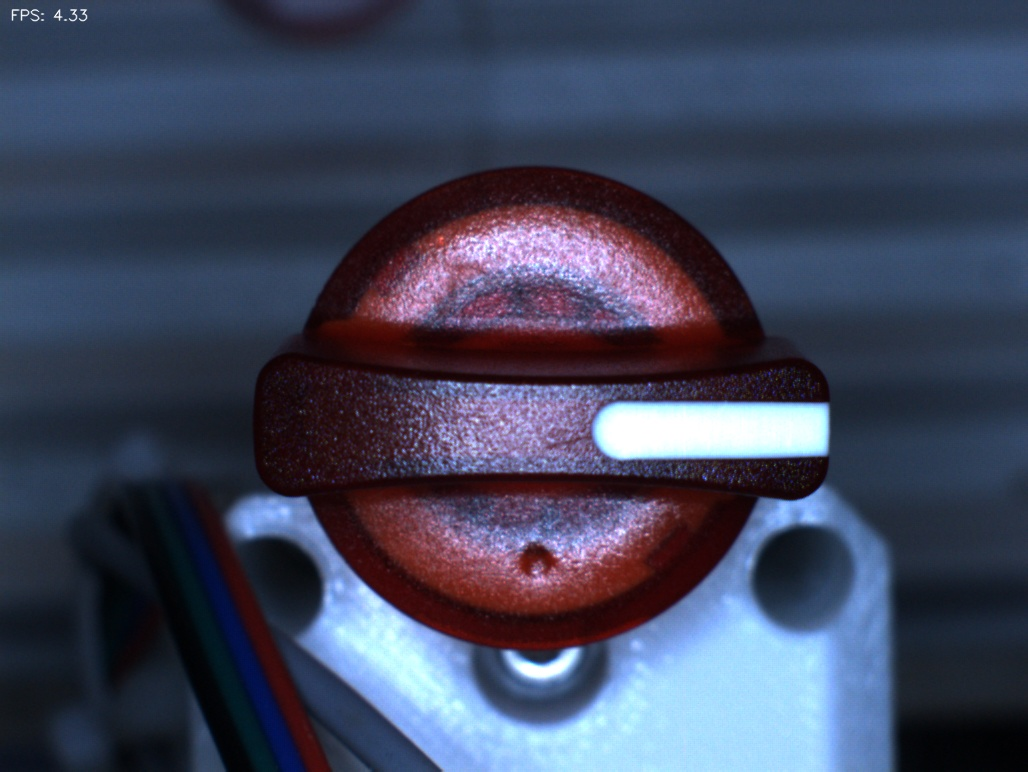Choc: (497, 520, 580, 603)
